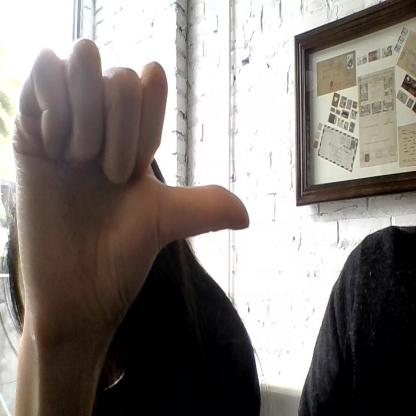left: (13, 39, 250, 297)
